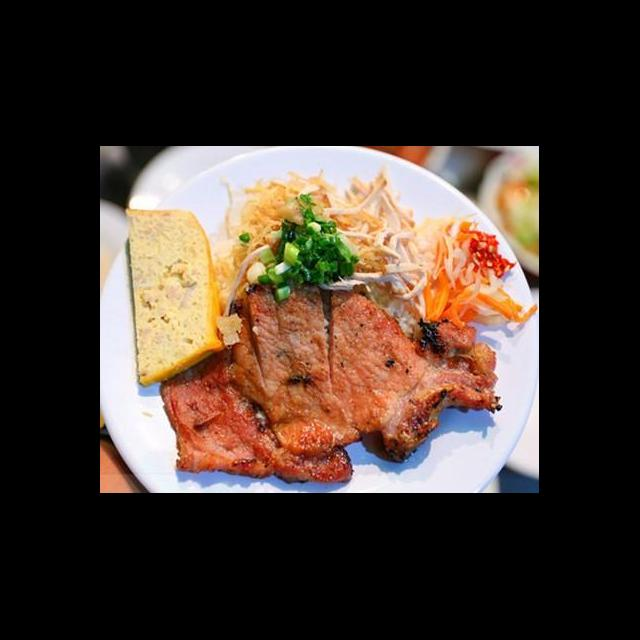bi: (215, 182, 322, 316)
cha: (124, 206, 230, 390)
com suon bi cha: (113, 179, 540, 493)
dua chua: (410, 212, 540, 332)
suon: (158, 272, 506, 486), (319, 174, 432, 320)
